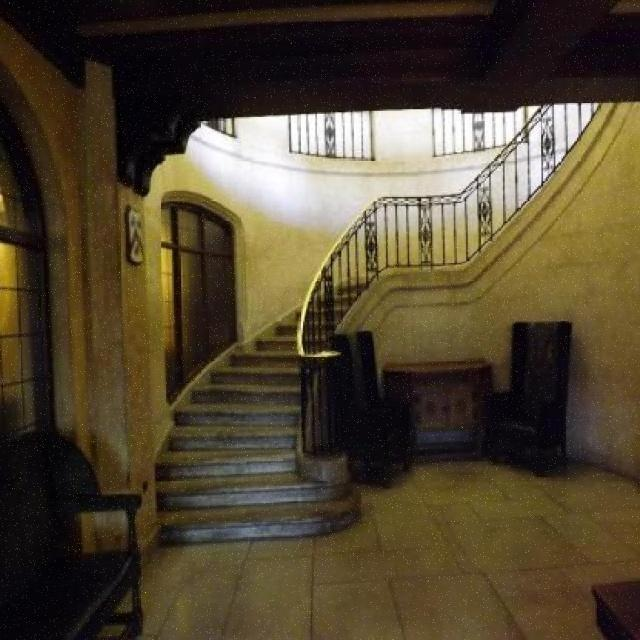stair: (156, 280, 370, 544)
